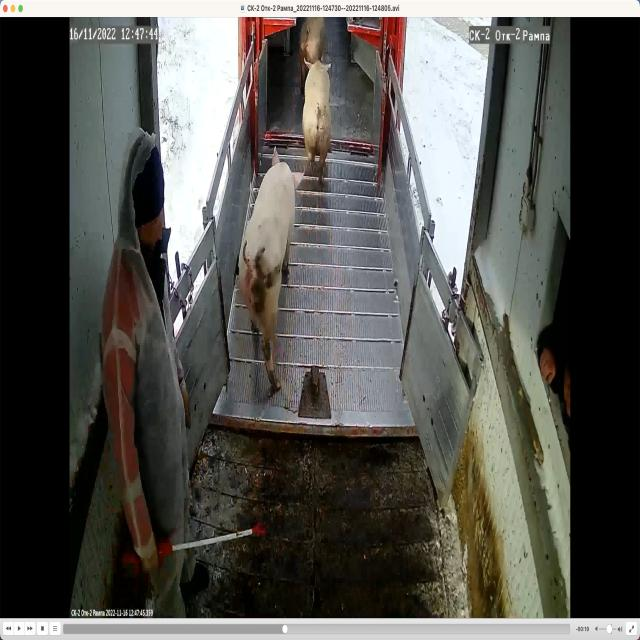pig: (239, 146, 305, 393), (302, 61, 332, 178)
